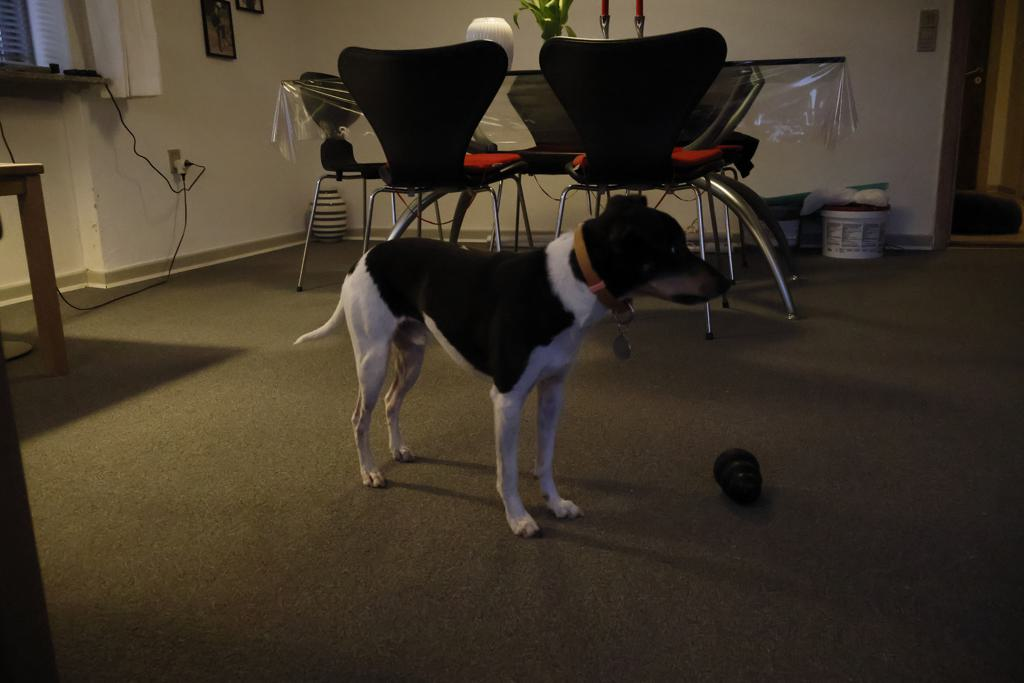Dog: (280, 177, 748, 544)
